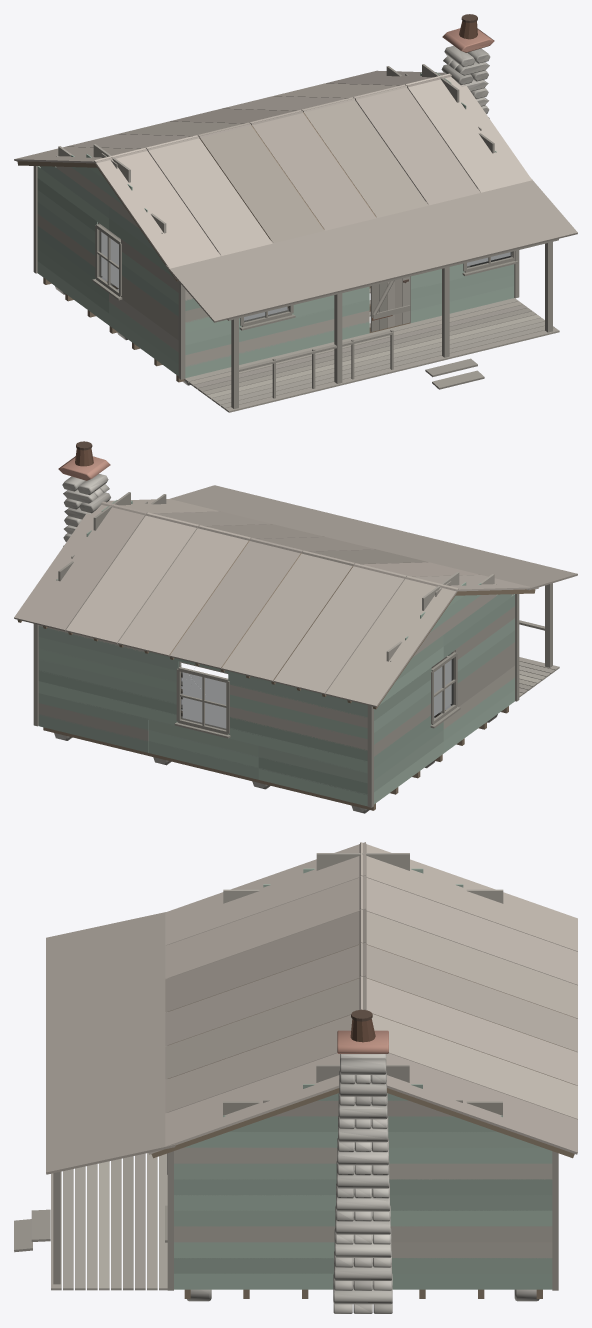
The model's file is cabin_abandoned_a_lod1.glb.
3 views of the same model, one above another, from view 1: azimuth 30°, elevation 25°; view 2: azimuth 150°, elevation 25°; view 3: azimuth 270°, elevation 25° (orthographic). The views are drawn at different scales.
Visible parts, largest first — view 1: body, door, windows, window_light; view 2: body, windows, window_light; view 3: body.
Boxes of the visible parts, box(x1,y1,x2,y2) form: body: box(14, 14, 577, 412); door: box(370, 276, 410, 331); windows: box(99, 230, 511, 322); window_light: box(101, 232, 510, 320); body: box(14, 441, 577, 813); windows: box(181, 658, 453, 729); window_light: box(182, 660, 451, 728); body: box(14, 842, 577, 1313).
Size of what is drawn, in the model's own units: 9.46 by 5.47 by 8.94.
